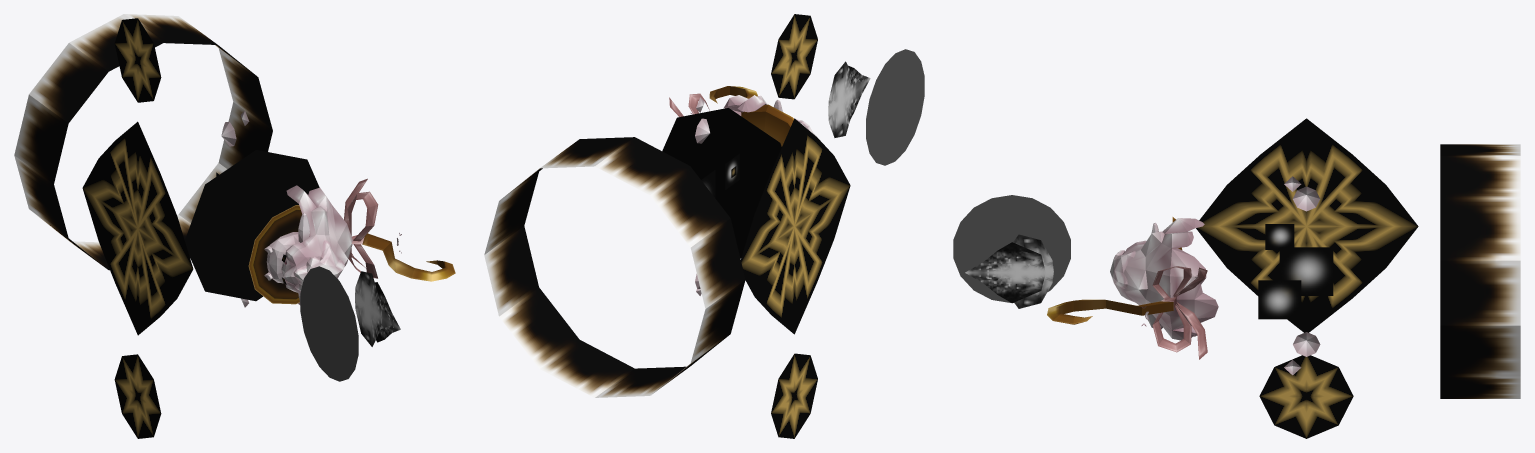
3 views of the same model, side by side, from view 1: azimuth 30°, elevation 25°; view 2: azimuth 150°, elevation 25°; view 3: azimuth 270°, elevation 25° (orthographic).
Visible parts, largest first — view 1: M_0169_0, M_0169_1; view 2: M_0169_0, M_0169_1; view 3: M_0169_0, M_0169_1.
Part boxes in pixels (x1,y1,x2,y2): M_0169_0: (14,14,400,438); M_0169_1: (185,111,455,307); M_0169_0: (484,14,924,438); M_0169_1: (662,86,817,295); M_0169_0: (953,118,1520,438); M_0169_1: (1047,176,1320,375).
Bounding box in the file's own units: 3.44 × 6.31 × 7.63.
2 materials, 2 textured.
